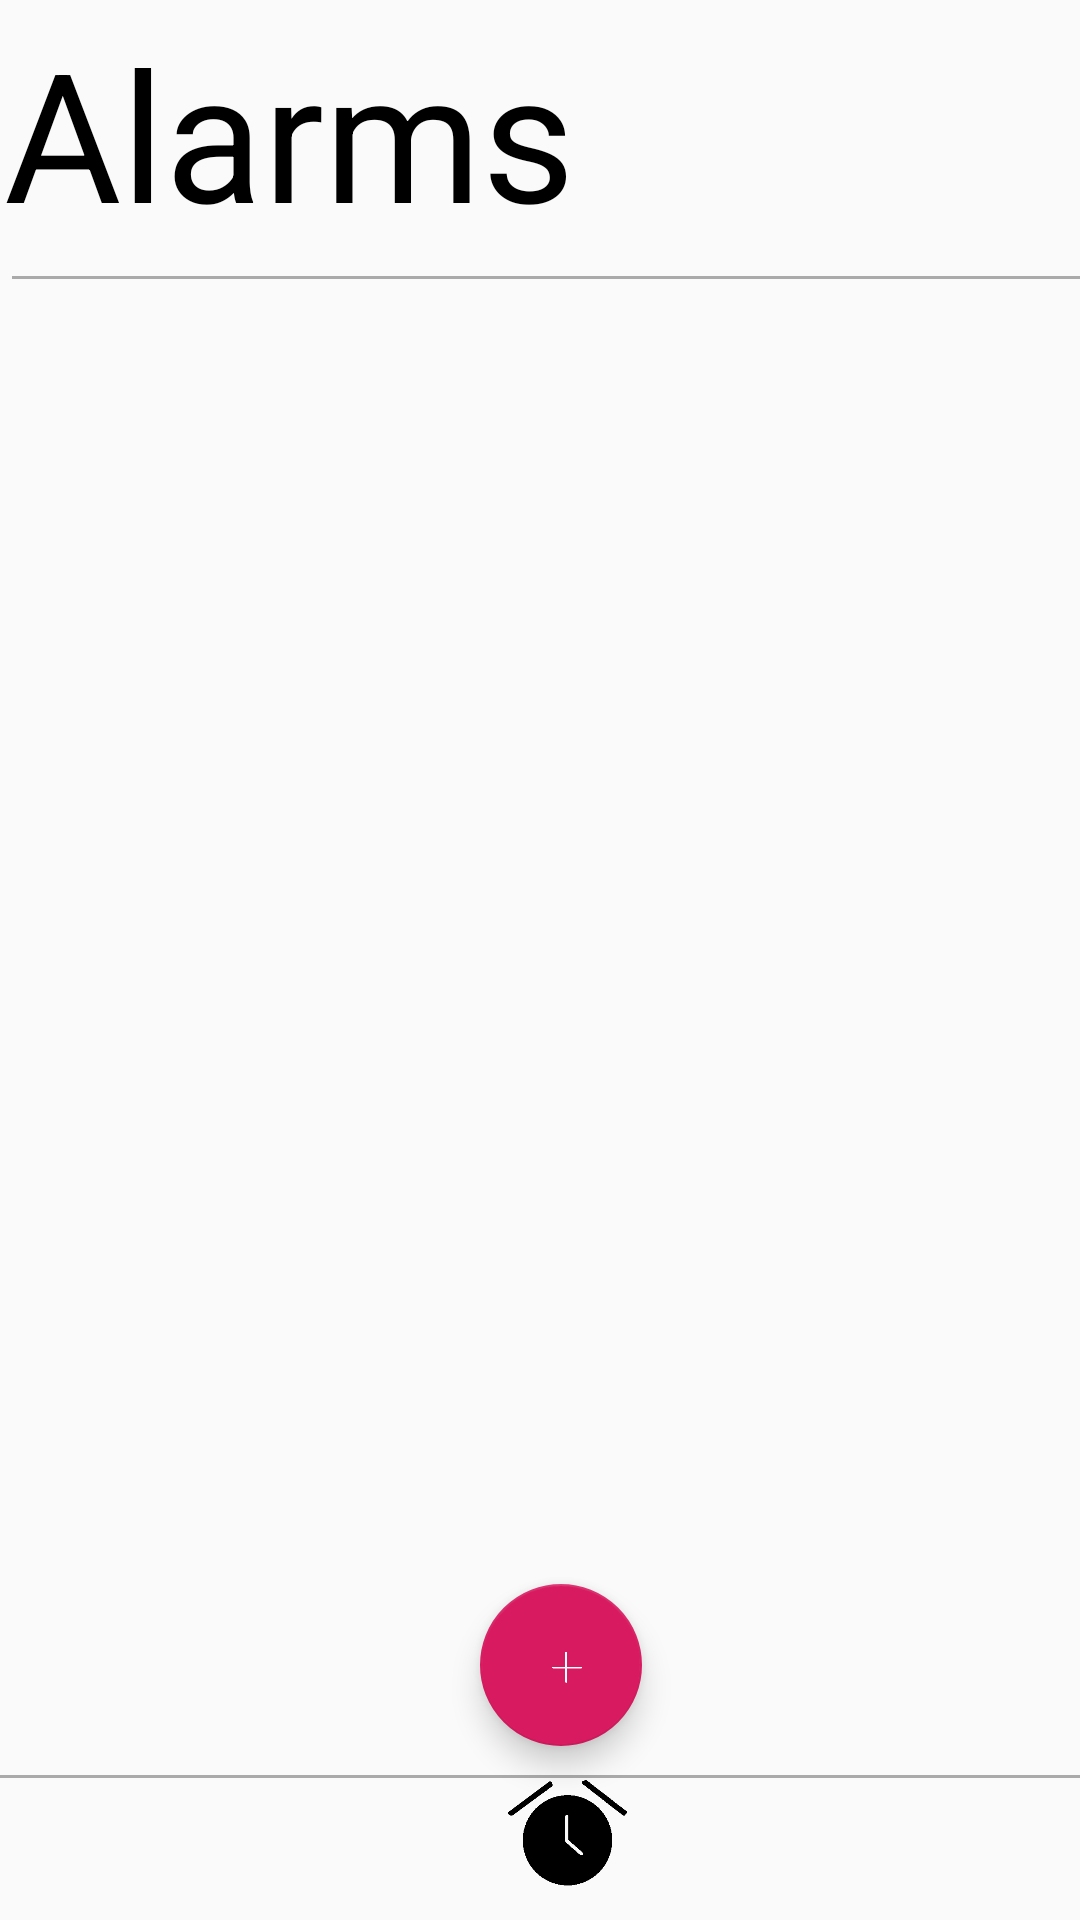

Point at icon controls on the screen. Image size 1080 × 1920, points as point (x, y).
plus: point (561, 1665)
